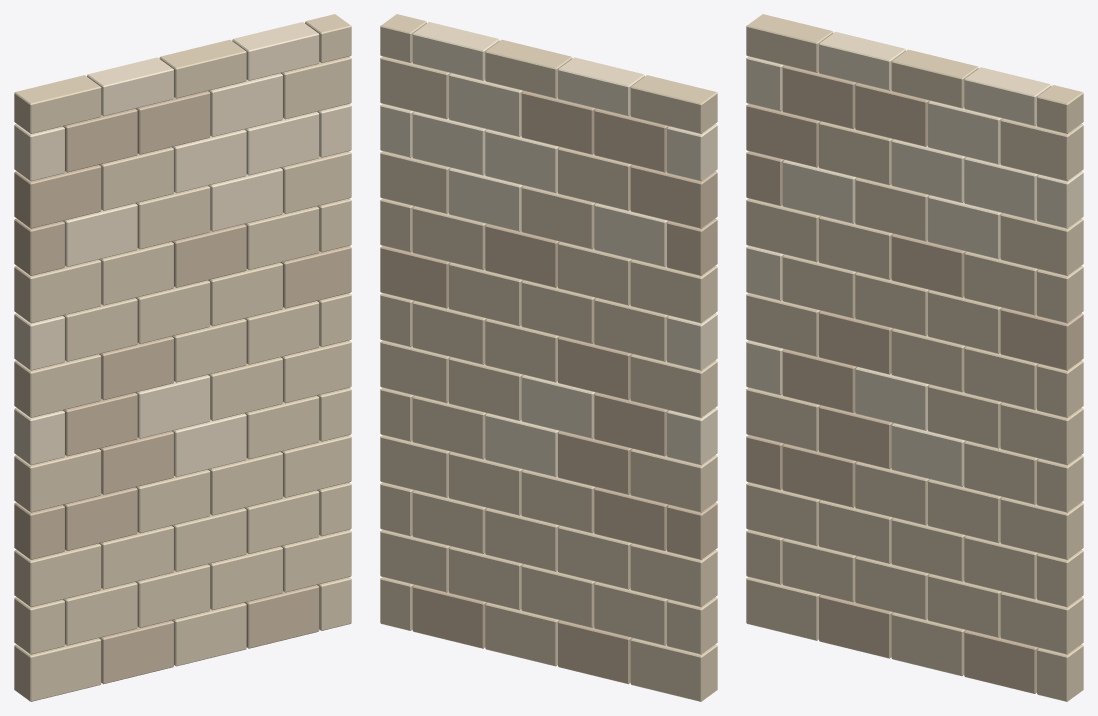
File: wall_panel.glb
3 views of the same model, side by side, from view 1: azimuth 30°, elevation 25°; view 2: azimuth 150°, elevation 25°; view 3: azimuth 330°, elevation 25° (orthographic).
Visible parts, largest first — view 1: wall_panel__body__plaster, wall_panel__body__plaster3, wall_panel__body__plaster2; view 2: wall_panel__body__plaster, wall_panel__body__plaster3, wall_panel__body__plaster2; view 3: wall_panel__body__plaster, wall_panel__body__plaster3, wall_panel__body__plaster2.
Boxes of the visible parts, left/top/right/bottom form: wall_panel__body__plaster: left=14, top=14, right=351, bottom=701; wall_panel__body__plaster3: left=14, top=91, right=351, bottom=684; wall_panel__body__plaster2: left=14, top=22, right=351, bottom=477; wall_panel__body__plaster: left=380, top=14, right=717, bottom=701; wall_panel__body__plaster3: left=380, top=91, right=717, bottom=684; wall_panel__body__plaster2: left=380, top=22, right=717, bottom=477; wall_panel__body__plaster: left=746, top=14, right=1083, bottom=701; wall_panel__body__plaster3: left=746, top=65, right=1083, bottom=693; wall_panel__body__plaster2: left=746, top=31, right=1083, bottom=486.
Bounding box in the file's own units: 1.99 × 3.54 × 0.18.
